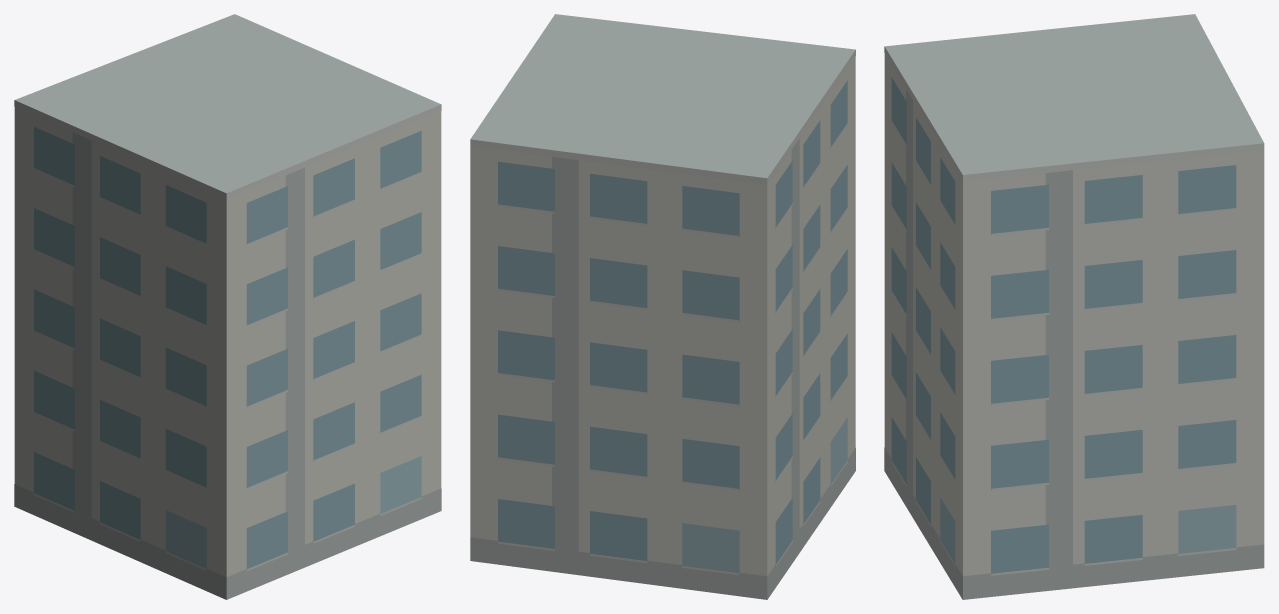
The model's file is survey-upis-32808292.glb.
The picture shows the model from 3 angles, left to right: view 1: azimuth 30°, elevation 25°; view 2: azimuth 150°, elevation 25°; view 3: azimuth 270°, elevation 25°; orthographic projection. The views are drawn at different scales.
Visible parts, largest first — view 1: survey-upis-32808292.tmp; view 2: survey-upis-32808292.tmp; view 3: survey-upis-32808292.tmp.
Part boxes in pixels (left/top/right/bottom): survey-upis-32808292.tmp: left=14, top=14, right=441, bottom=599; survey-upis-32808292.tmp: left=470, top=14, right=855, bottom=599; survey-upis-32808292.tmp: left=884, top=14, right=1264, bottom=599.
Size of the model in its own units: 12.41 by 15.25 by 12.36.
